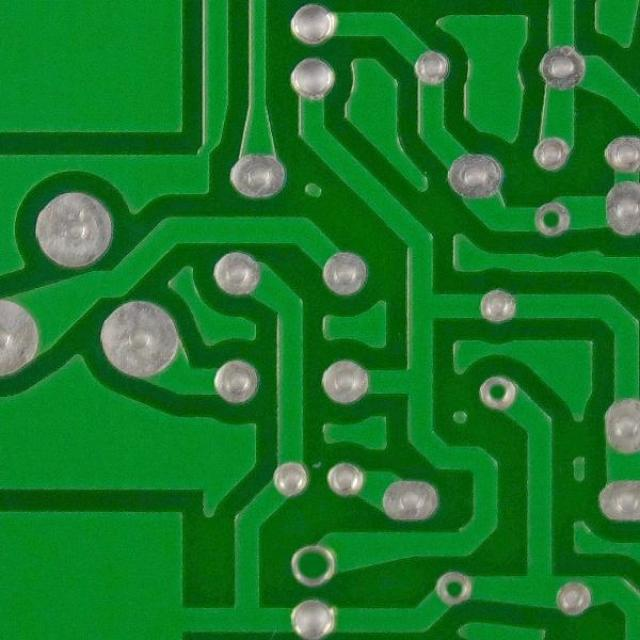Missing_Hole: (286, 542, 340, 589), (476, 373, 522, 413), (430, 569, 475, 609), (530, 199, 573, 239)
